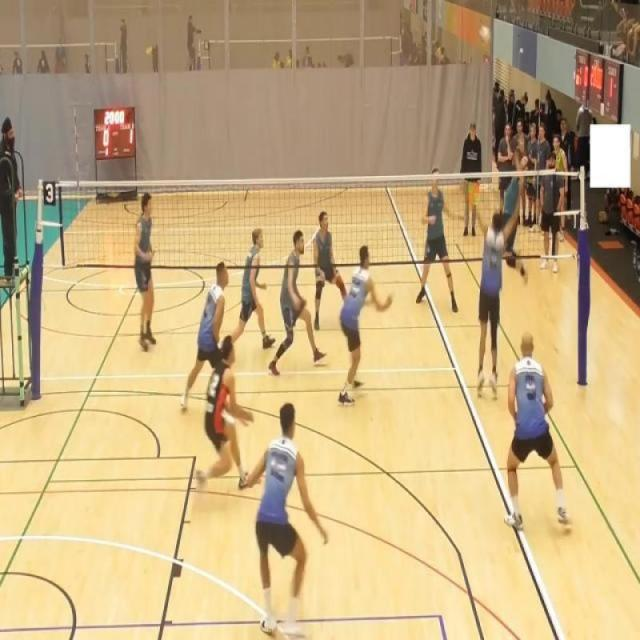volleyball: (479, 25, 491, 45)
